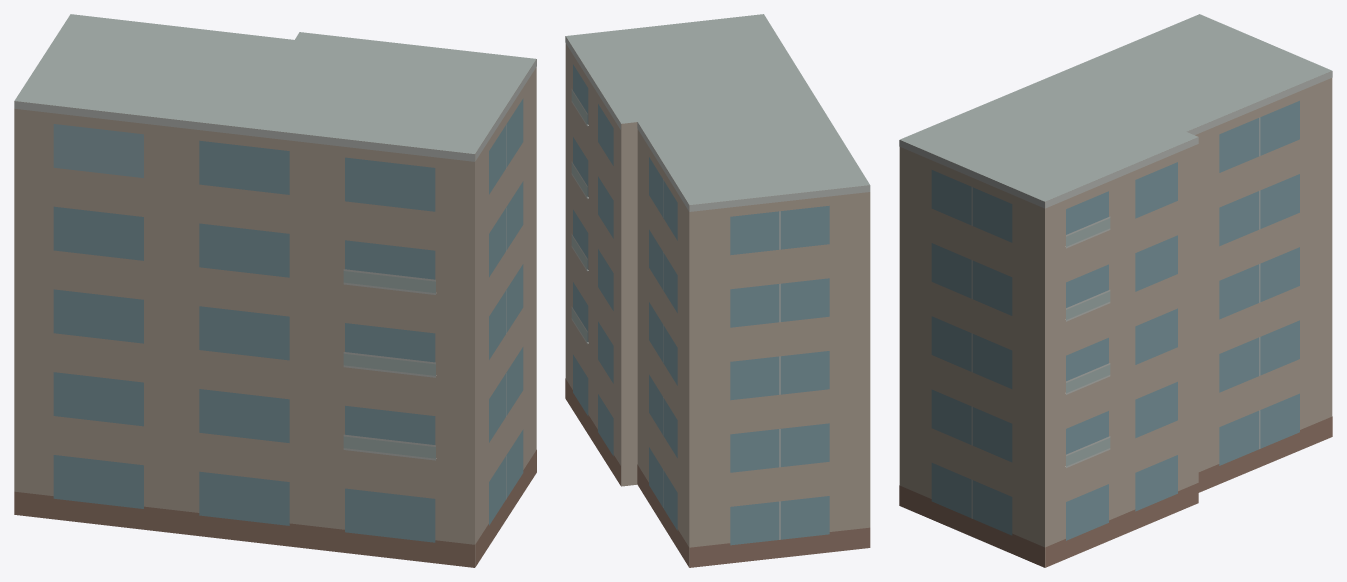
File: survey-upis-32593684.glb
3 renders of one model, left to right at view 1: azimuth 30°, elevation 25°; view 2: azimuth 150°, elevation 25°; view 3: azimuth 270°, elevation 25°, orthographic. The views are drawn at different scales.
Visible parts, largest first — view 1: survey-upis-32593684.tmp; view 2: survey-upis-32593684.tmp; view 3: survey-upis-32593684.tmp.
Part boxes in pixels (<box>): survey-upis-32593684.tmp: <box>14,14,536,567</box>; survey-upis-32593684.tmp: <box>565,14,870,567</box>; survey-upis-32593684.tmp: <box>899,14,1332,567</box>.
Bounding box in the file's own units: 14.37 × 13.05 × 14.
